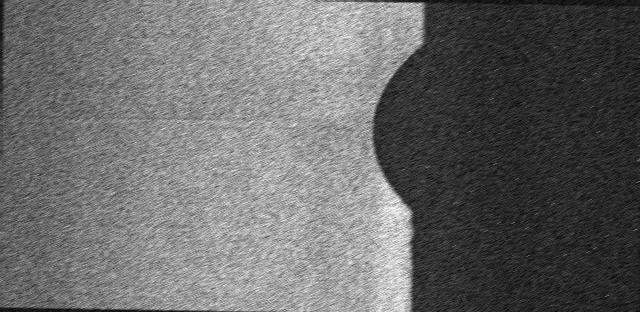welding_line: (0, 102, 371, 134)
